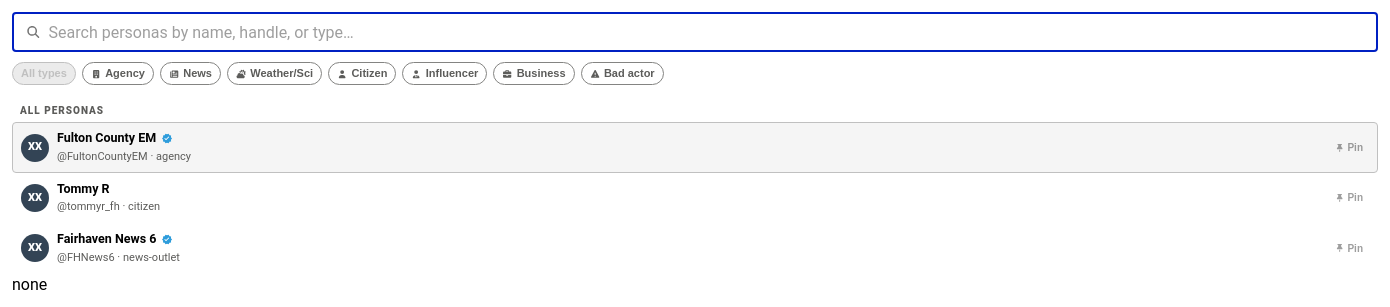
Test: PersonaPicker — search + type filter › filters by persona type via the type chips
Click the button with test id "persona-picker-type-filter-news" at coordinates (190, 74), box [160,62,221,85]
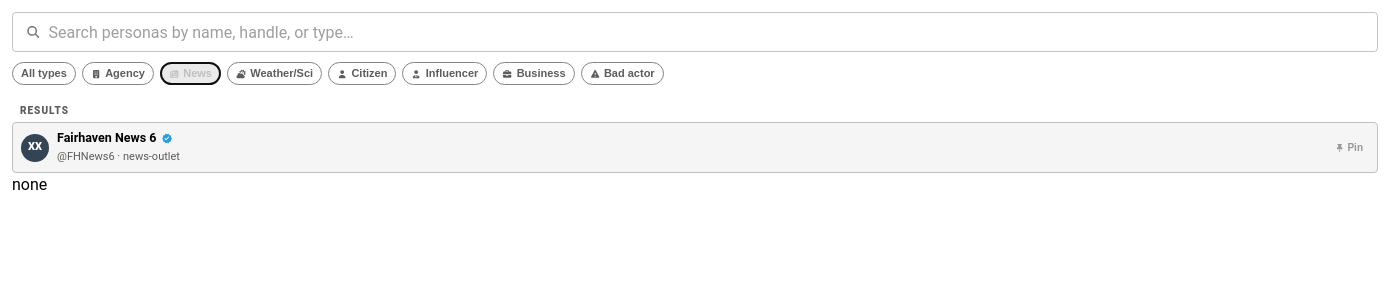
Expected: the option with test id "persona-picker-option-persona-fh-news" is shown, [12,122,1378,173]
Expected: the option with test id "persona-picker-option-persona-tommyr" is gone
Expected: the option with test id "persona-picker-option-persona-fulton-em" is gone
